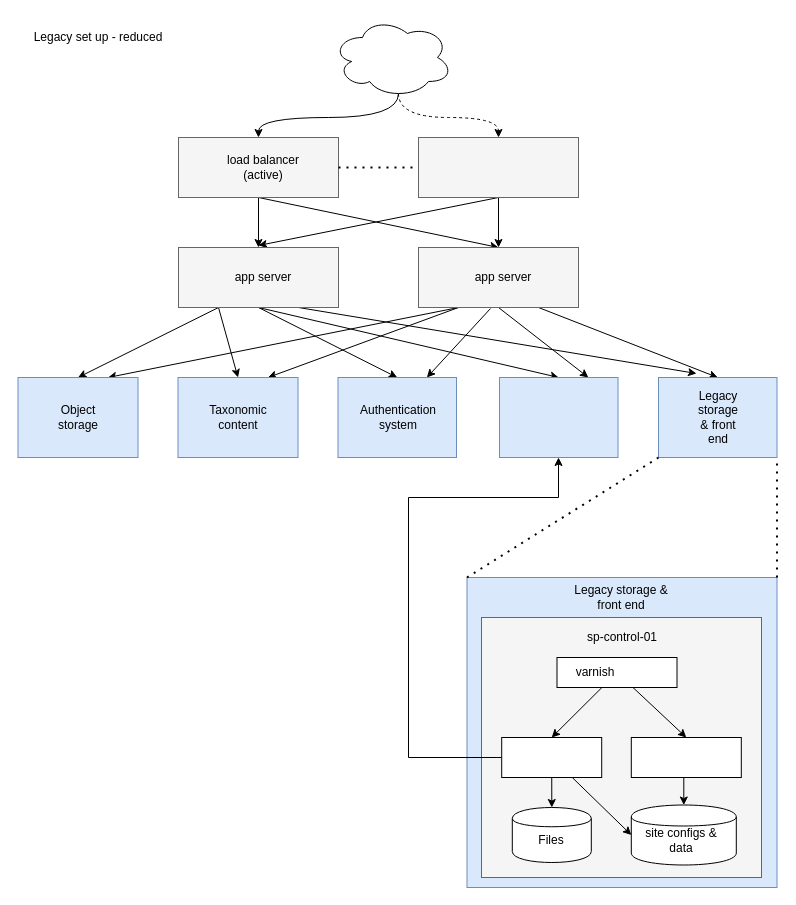
Some shapes in this 796 by 905 pixel diagram are drawn without their labels. The shapes that lost their labels are listed below. From the top down, each one's centre as x and y in pixels, then its label:
point 392,57: Internet
point 498,167: load balancer (passive)
point 558,417: Search
point 551,757: apache
point 685,757: aegir
